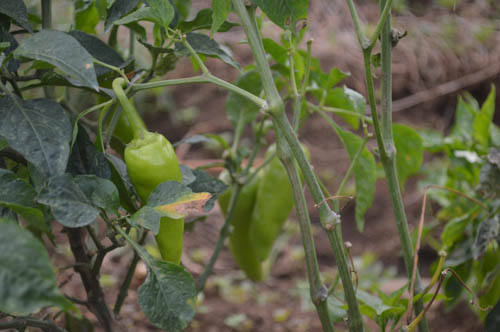ChiliPepper: (129, 139, 186, 267), (249, 158, 312, 264), (213, 181, 259, 282)
